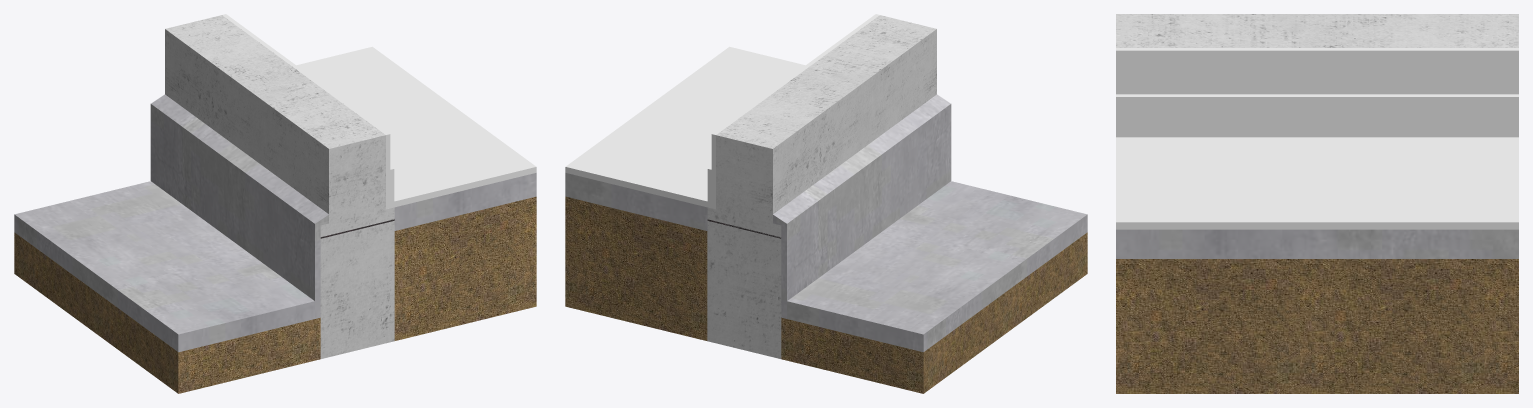
Rendered from plaster-plinth.glb.
The picture shows the model from 3 angles, left to right: view 1: azimuth 30°, elevation 25°; view 2: azimuth 150°, elevation 25°; view 3: azimuth 270°, elevation 25°; orthographic projection. The views are drawn at different scales.
Parts seen in each view (by area): view 1: 墙体, 垫层, 室内外回填土, 抹灰, 其余; view 2: 墙体, 垫层, 室内外回填土, 抹灰, 其余; view 3: 其余, 室内外回填土, 墙体, 垫层.
Part boxes in pixels (x1,y1,x2,y2): 墙体: (165,15,394,358); 垫层: (14,173,536,352); 室内外回填土: (14,196,536,393); 抹灰: (150,94,328,318); 其余: (222,14,536,209); 墙体: (707,15,936,358); 垫层: (565,173,1087,352); 室内外回填土: (565,196,1087,393); 抹灰: (773,94,951,318); 其余: (565,14,879,209); 其余: (1116,48,1518,229); 室内外回填土: (1116,259,1518,393); 墙体: (1116,14,1518,47); 垫层: (1116,229,1518,258).
Size of what is drawn, in the model's own units: 1.26 by 0.7 by 1.
Materials: 6 (5 with a texture image).
